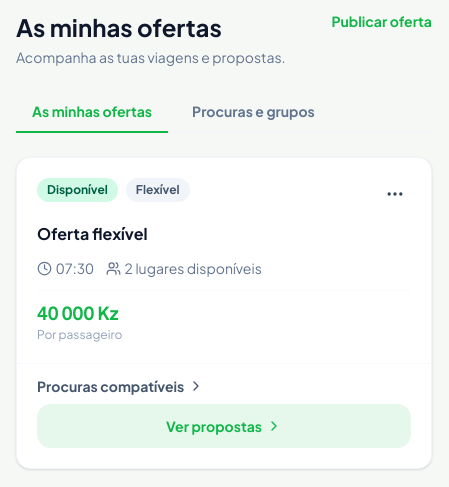
PACOTE ENG #26 — hub motorista procuras e grupos › oferta flexível: secção procuras sem OD inventada na oferta
This screenshot has width=449, height=487.
Expected: the text "Oferta flexível" is shown, [37,223,148,244]
Click the tab "Procuras e grupos" at (254, 112), box [176,91,331,133]
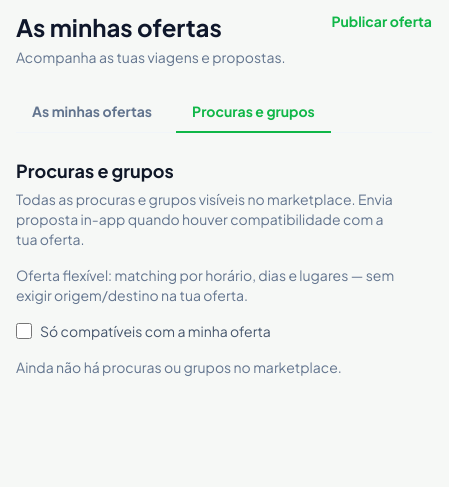
Expected: the text "sem exigir origem/destino na tua oferta" is shown, [16,266,394,304]
